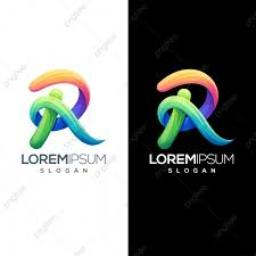r: (18, 63, 108, 151)
